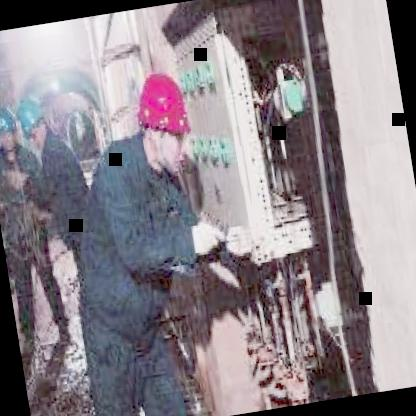helmet: (130, 62, 196, 175), (14, 90, 49, 150), (0, 101, 19, 153)
